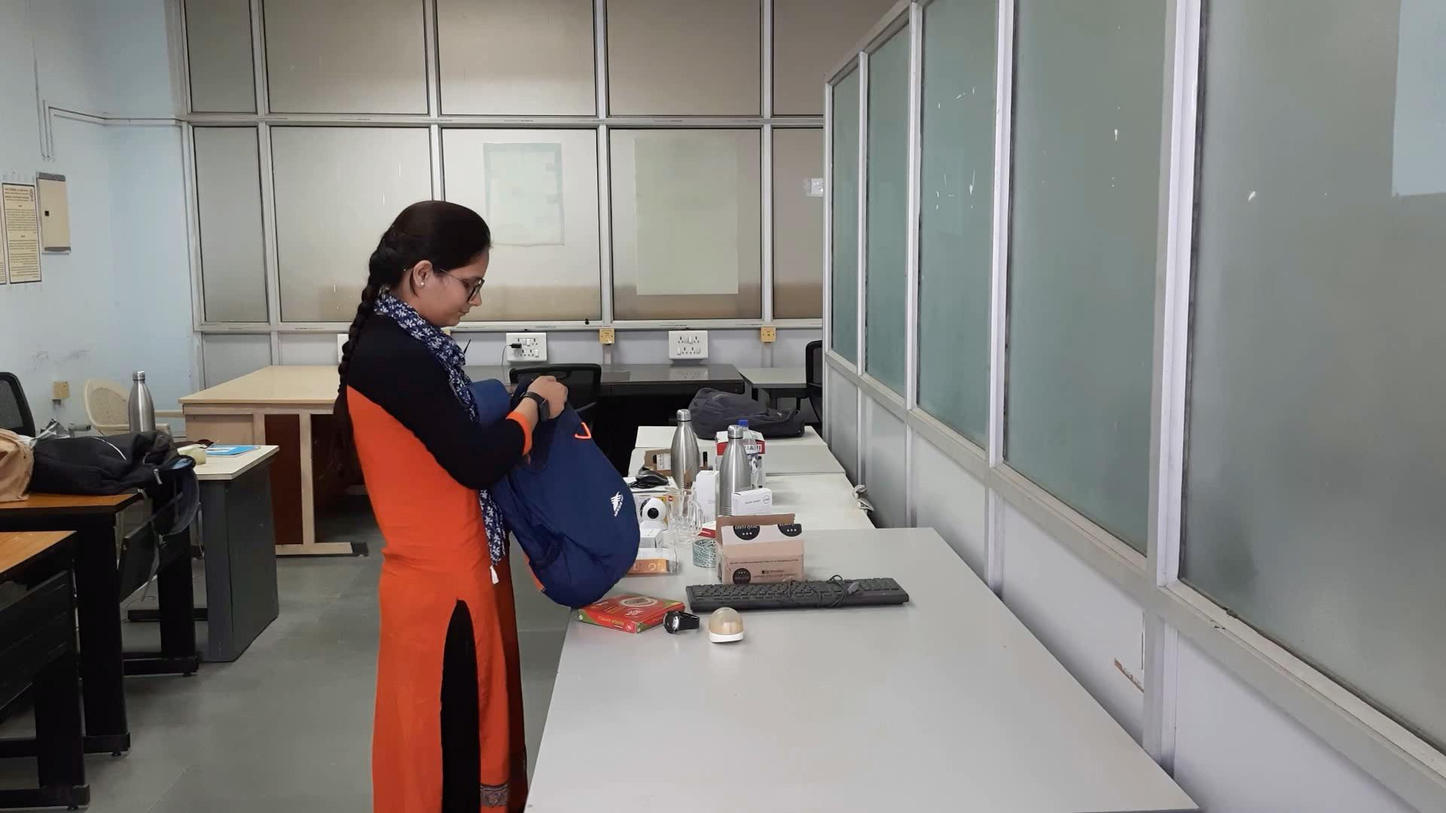shoplifting: (268, 339, 718, 615)
